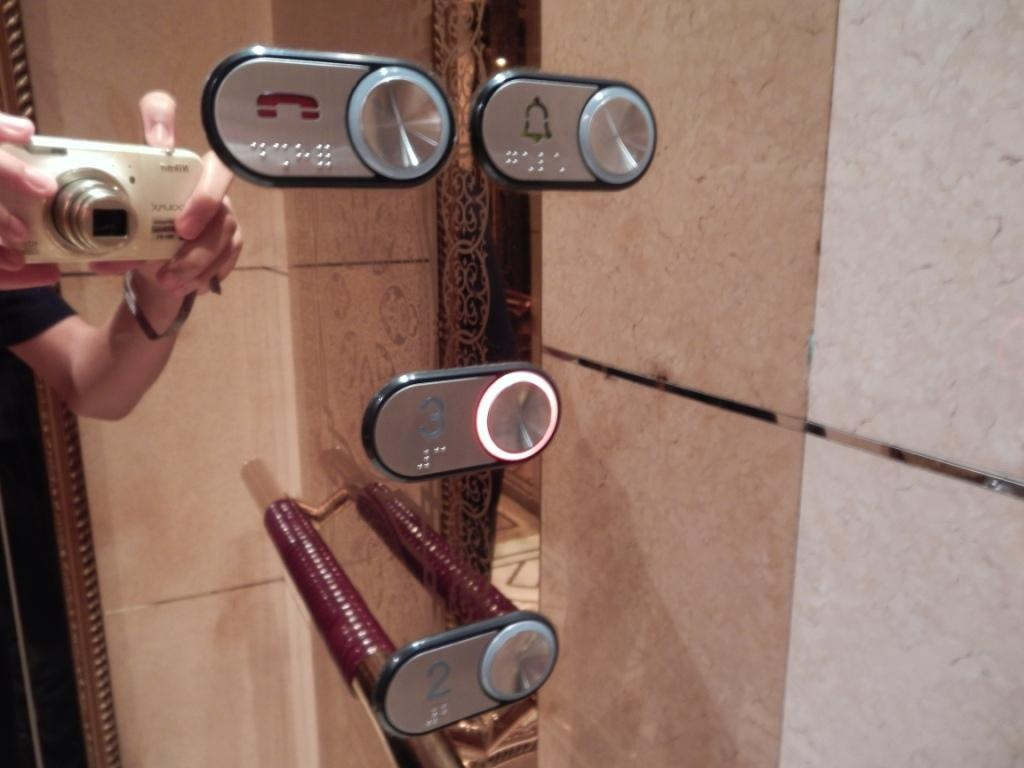2: (371, 610, 570, 744)
3: (354, 358, 567, 487)
alarm: (465, 57, 662, 194)
call: (195, 43, 457, 191)
